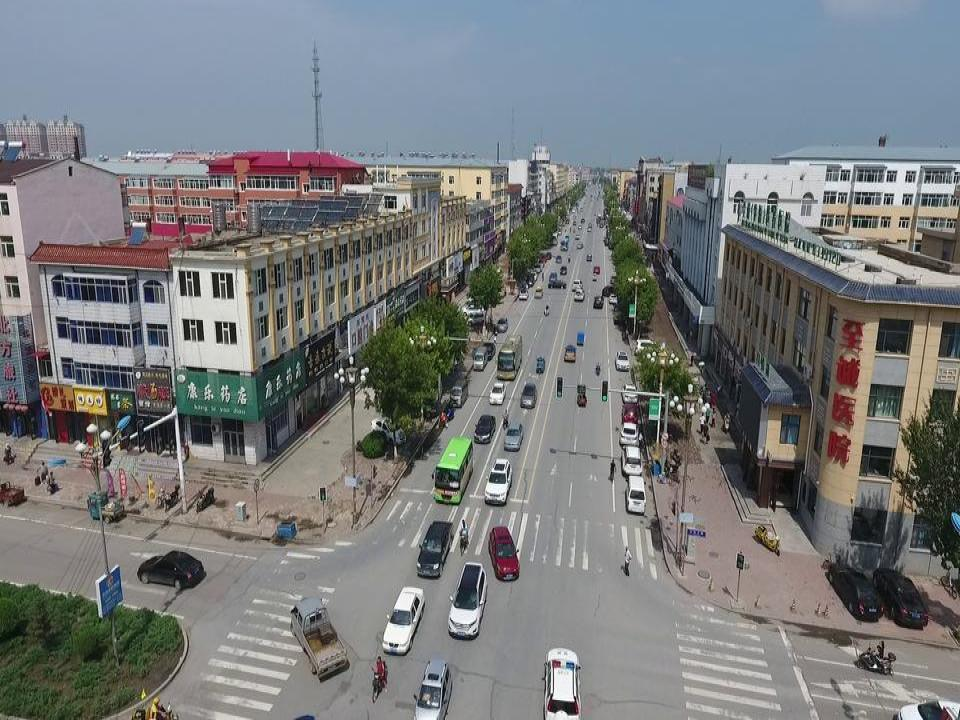bus: (432, 436, 473, 504), (495, 334, 523, 378), (560, 237, 569, 251)
car: (872, 567, 928, 626), (828, 561, 883, 620), (447, 561, 488, 639), (382, 585, 425, 655), (543, 646, 581, 720), (136, 550, 204, 590), (411, 658, 453, 720), (488, 526, 520, 582), (895, 697, 955, 720), (484, 457, 512, 504), (370, 416, 407, 447), (620, 444, 642, 479), (474, 415, 495, 444), (503, 421, 523, 451), (634, 338, 667, 354), (619, 421, 640, 446), (520, 383, 538, 408), (622, 401, 639, 426), (489, 381, 506, 404), (463, 312, 486, 327), (613, 301, 628, 324), (620, 384, 638, 403), (480, 341, 496, 360), (615, 350, 630, 370), (461, 303, 484, 316), (564, 344, 577, 361), (547, 279, 567, 289), (496, 317, 508, 332), (602, 285, 617, 296), (571, 278, 583, 290), (593, 295, 604, 308), (574, 288, 585, 301), (518, 287, 529, 300), (533, 285, 543, 299), (608, 293, 618, 303), (548, 271, 557, 281), (559, 265, 568, 275), (610, 275, 619, 284), (555, 253, 562, 263), (576, 242, 584, 250), (545, 251, 552, 260), (593, 266, 600, 274), (586, 254, 592, 262)
truck: (290, 595, 347, 677), (417, 520, 454, 579), (549, 232, 558, 245)
van: (625, 475, 647, 513), (449, 379, 468, 408), (473, 346, 488, 371)
